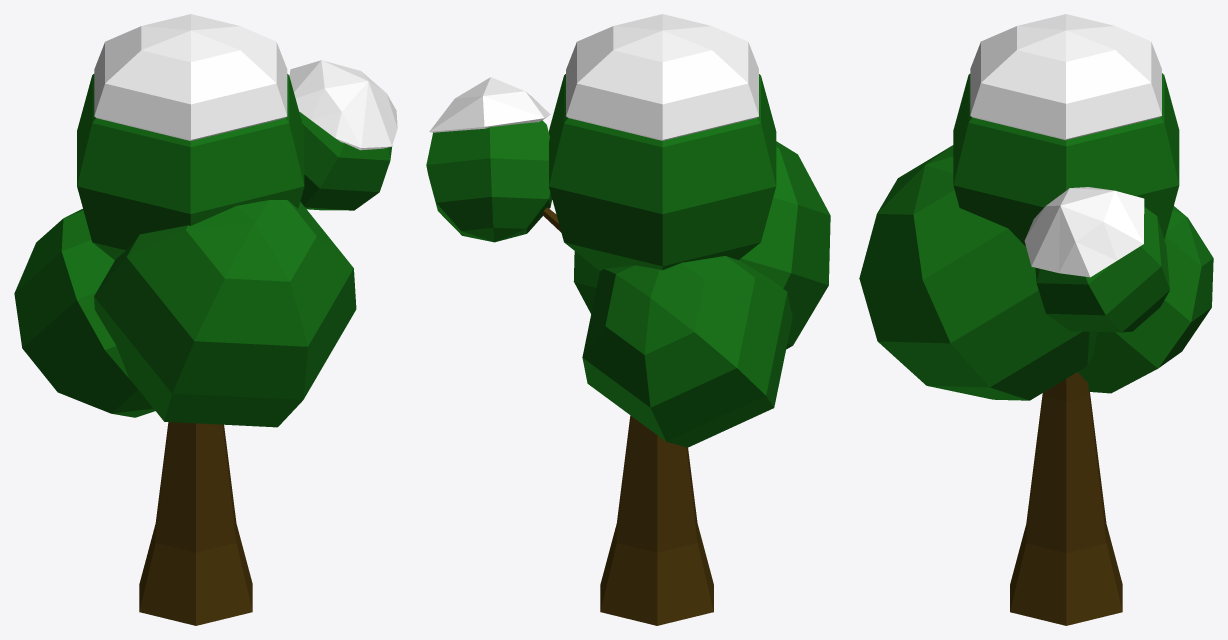
The model's file is Tree_7_Snow.fbx.
3 renders of one model, left to right at view 1: azimuth 30°, elevation 25°; view 2: azimuth 150°, elevation 25°; view 3: azimuth 270°, elevation 25°, orthographic.
Visible parts, largest first — view 1: Tree_7_Snow; view 2: Tree_7_Snow; view 3: Tree_7_Snow.
Boxes of the visible parts, left/top/right/bottom form: Tree_7_Snow: left=14, top=14, right=397, bottom=625; Tree_7_Snow: left=426, top=14, right=830, bottom=625; Tree_7_Snow: left=859, top=14, right=1213, bottom=625.
Bounding box in the file's own units: 6.24 × 9.58 × 5.44.
